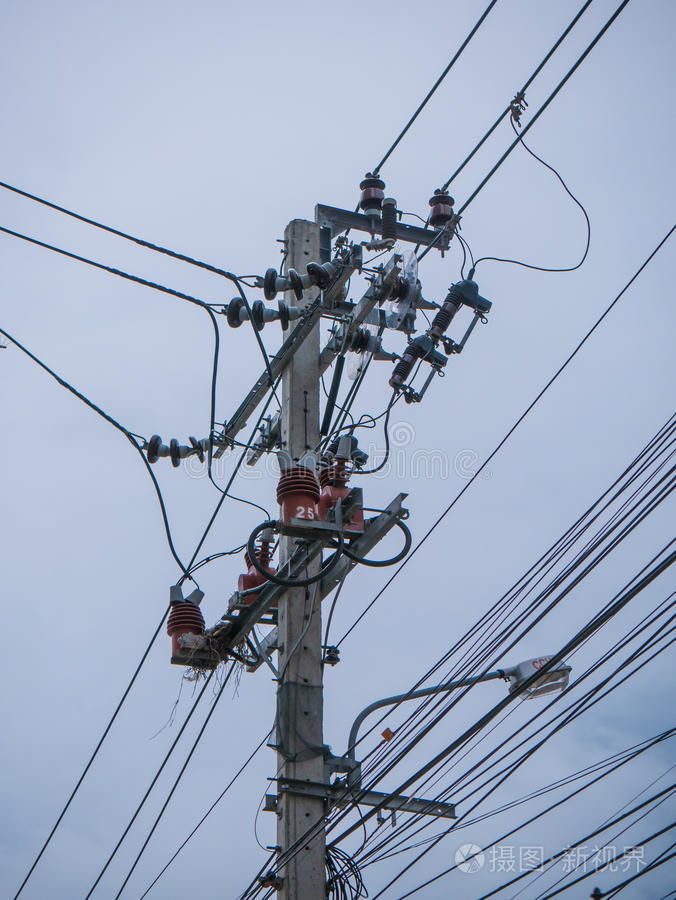insulator: (260, 262, 329, 302), (224, 296, 290, 336), (148, 429, 207, 465)
